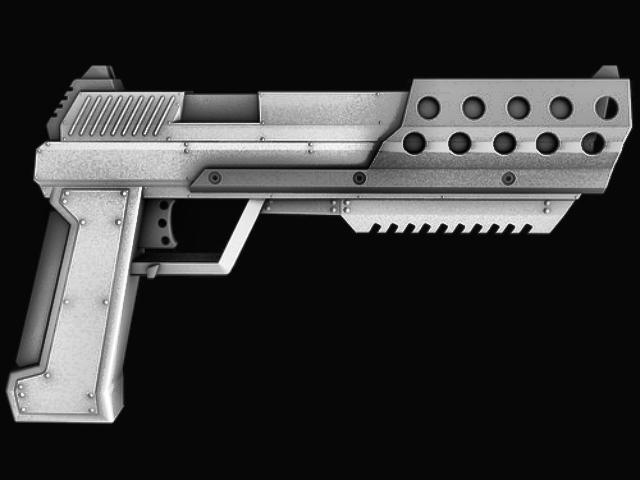pistol: (3, 63, 631, 421)
